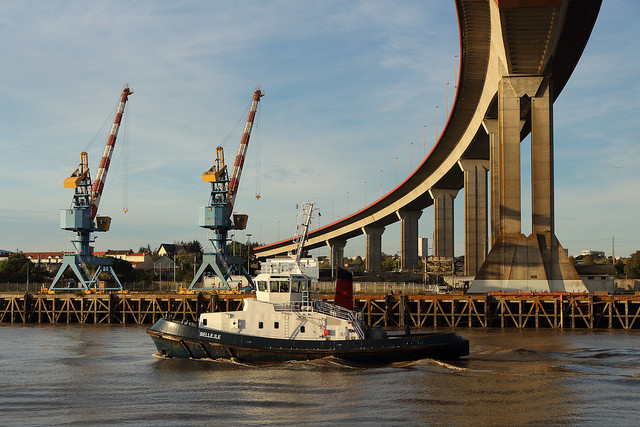tug_boat: (141, 210, 470, 376)
